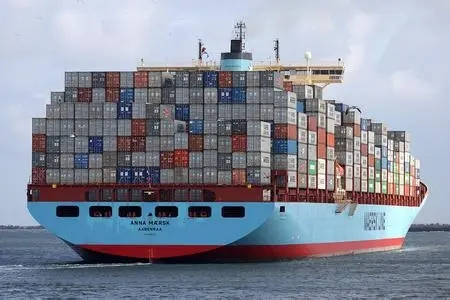Cargoship: (20, 11, 429, 256)
